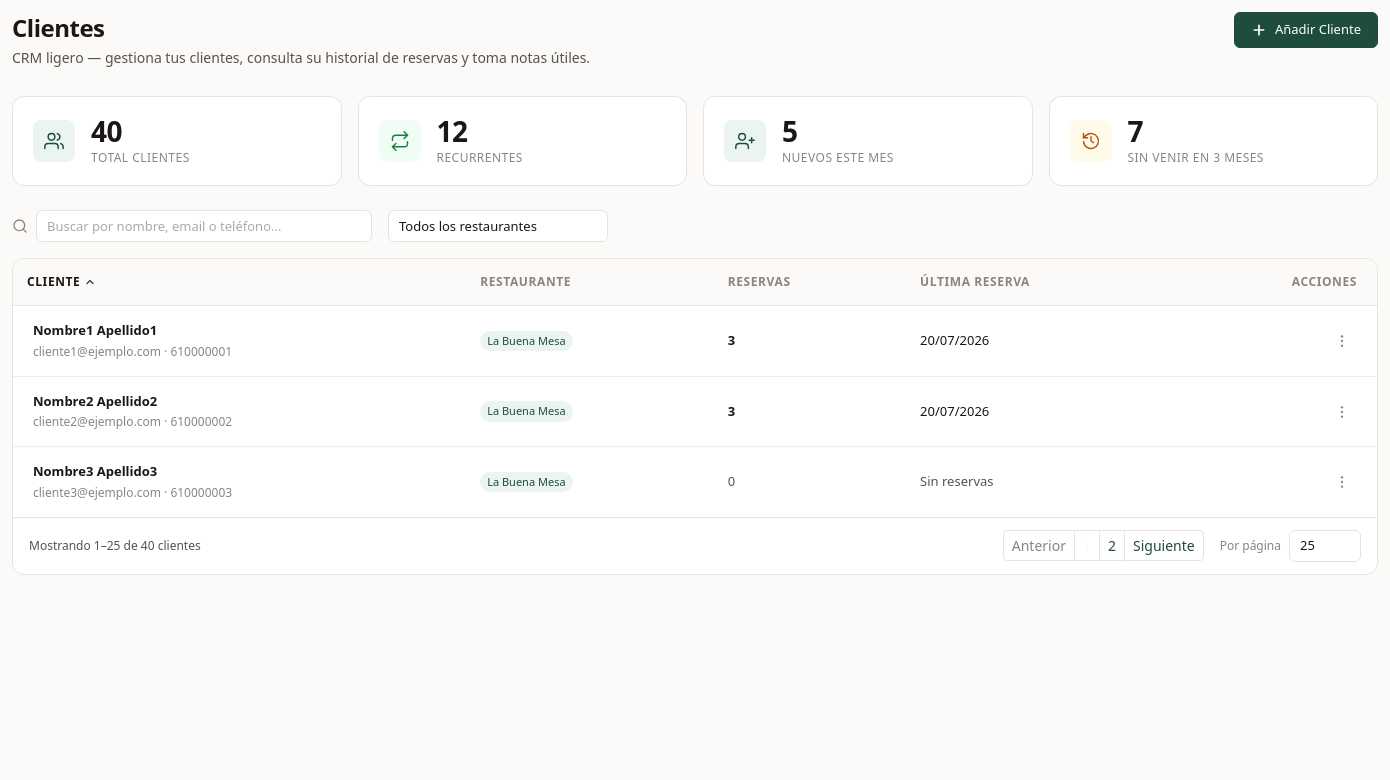
Test case: Clientes — búsqueda, filtro y orden › muestra el estado sin resultados y permite limpiar los filtros
Check: the text "Nombre1 Apellido1" is shown, box [33,321,157,339]
Type "zzz" into the field named "buscar clientes" at coordinates (204, 226), box [36,210,372,242]
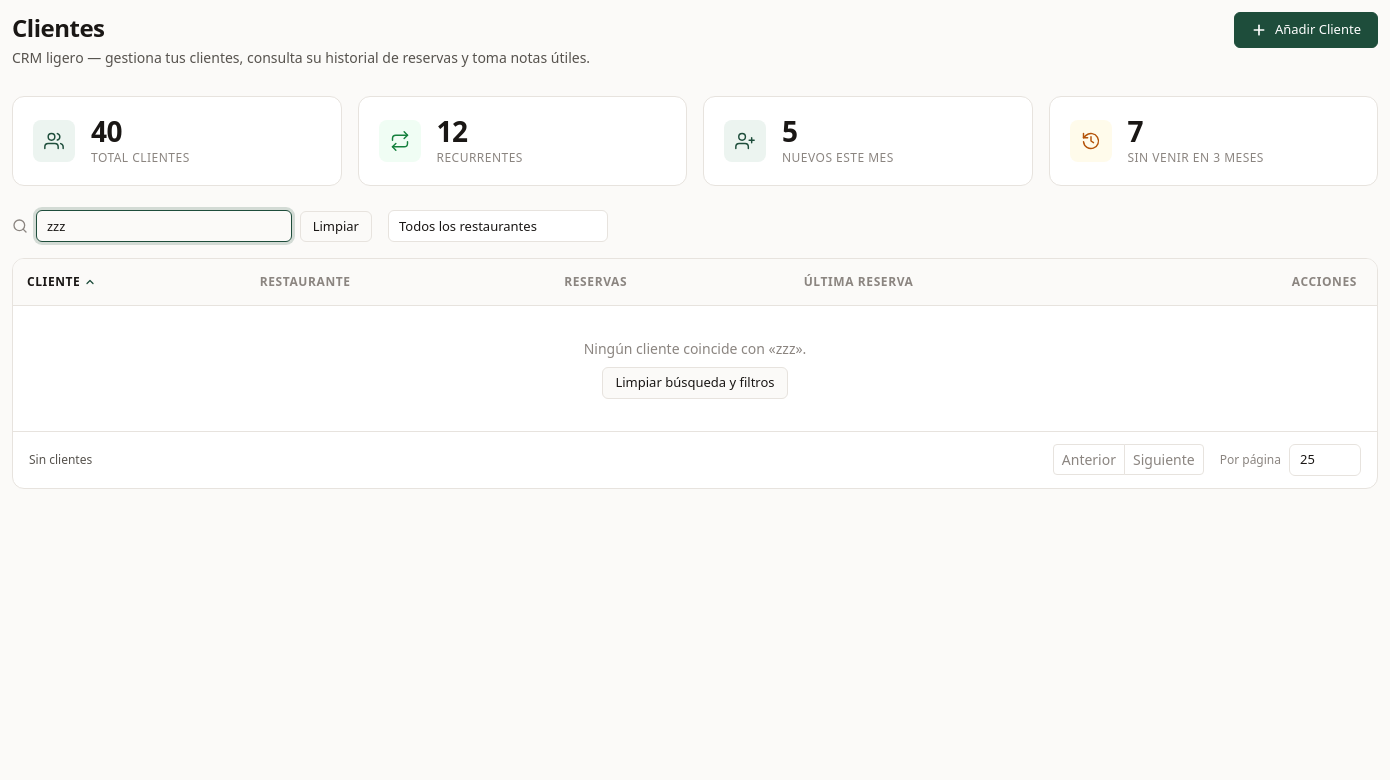
Check: the text "Ningún cliente coincide con «zzz»." is shown, box [584,339,806,358]
Click the button "Limpiar búsqueda y filtros" at coordinates (695, 383), box [602,367,788,399]
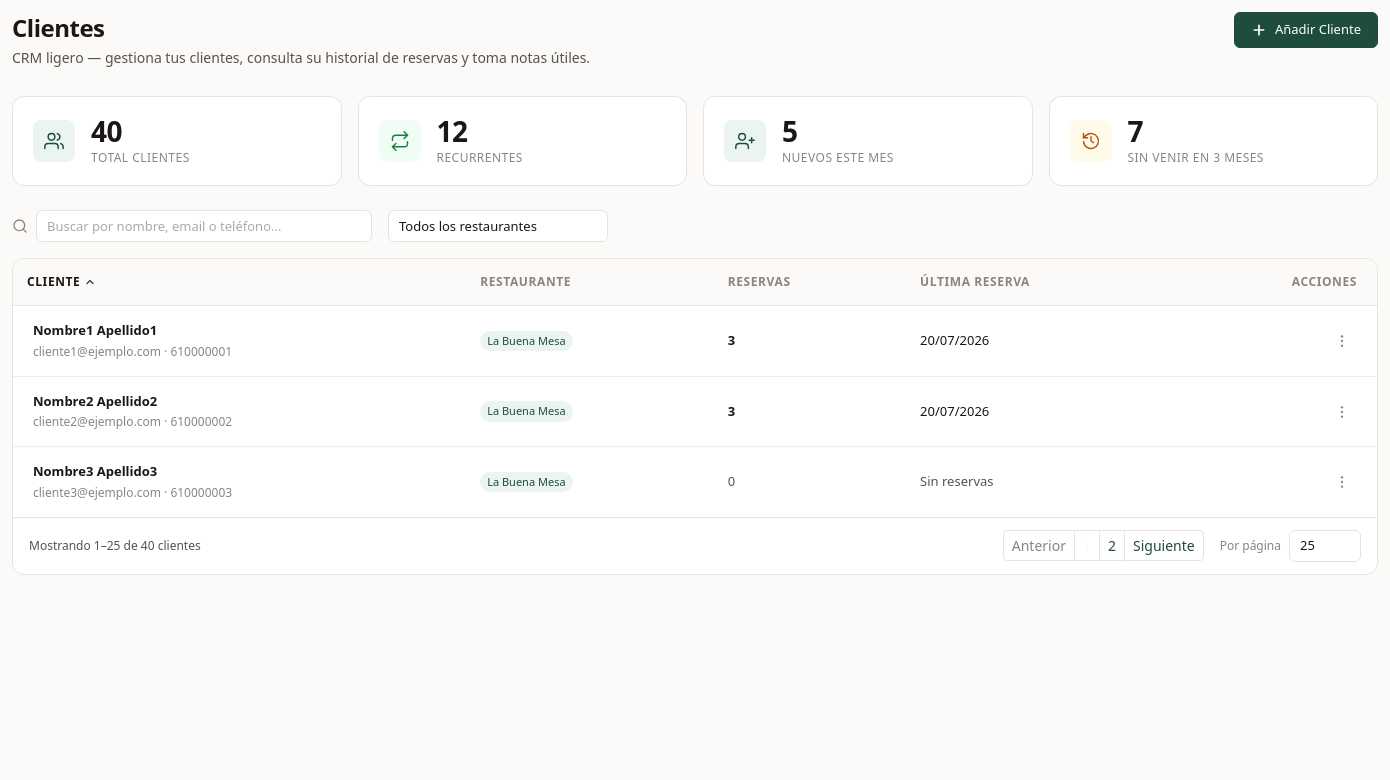
Check: the text "Nombre1 Apellido1" is shown, box [33,321,157,339]
